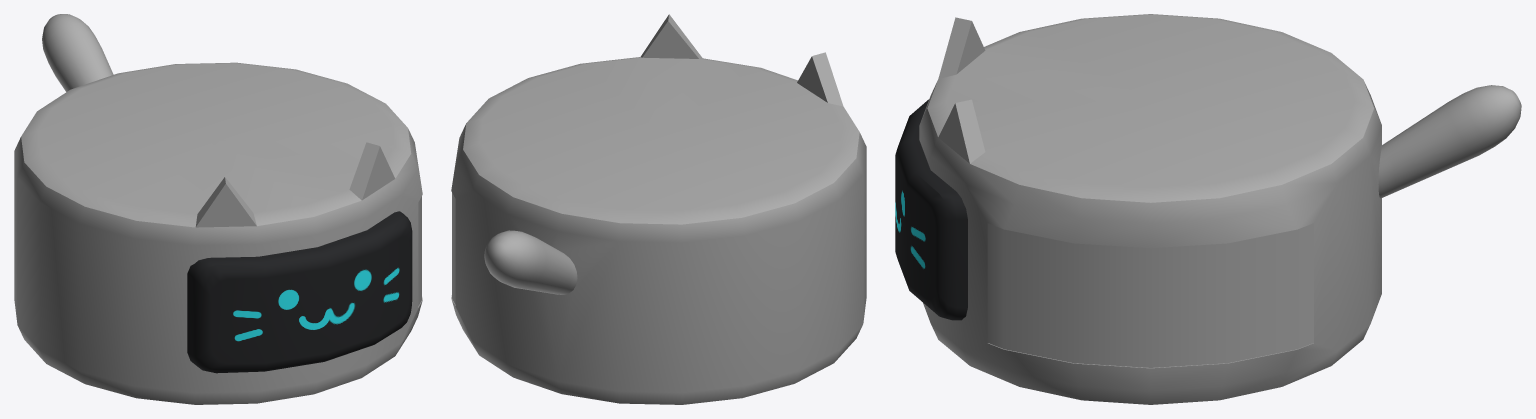
The model's file is MD_Player.fbx.
3 renders of one model, left to right at view 1: azimuth 30°, elevation 25°; view 2: azimuth 150°, elevation 25°; view 3: azimuth 270°, elevation 25°, orthographic. The views are drawn at different scales.
Parts seen in each view (by area): view 1: pCylinder9, polySurface2, polySurface5; view 2: pCylinder9, polySurface5; view 3: pCylinder9, polySurface5, polySurface2.
Boxes of the visible parts, bbox=[...] form: pCylinder9: bbox=[14, 14, 422, 404]; polySurface2: bbox=[187, 211, 412, 373]; polySurface5: bbox=[418, 196, 421, 305]; pCylinder9: bbox=[451, 14, 866, 404]; polySurface5: bbox=[452, 193, 455, 304]; pCylinder9: bbox=[919, 14, 1521, 404]; polySurface5: bbox=[987, 223, 1313, 367]; polySurface2: bbox=[895, 99, 967, 320].
Size of the model in its own units: 2.97 by 1.83 by 4.02.
